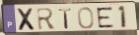1: (118, 5, 129, 30)
E: (95, 6, 116, 29)
O: (77, 6, 95, 30)
R: (36, 7, 58, 31)
T: (58, 8, 73, 30)
X: (16, 8, 38, 32)
